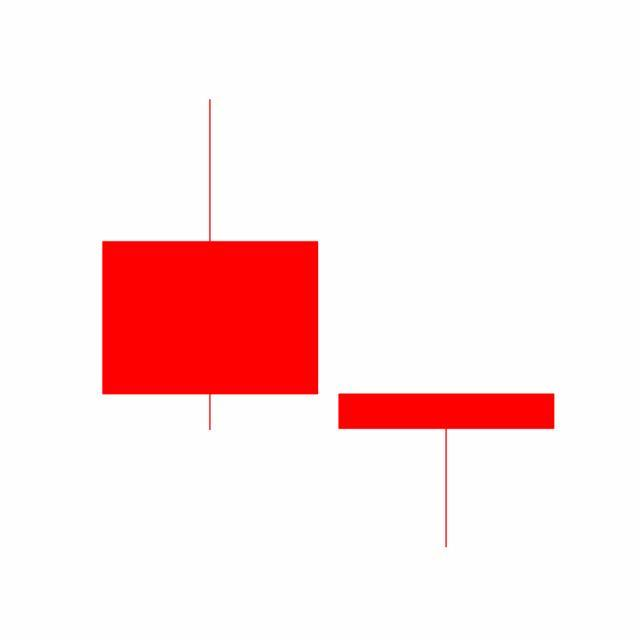Hammer: (328, 392, 566, 550)
